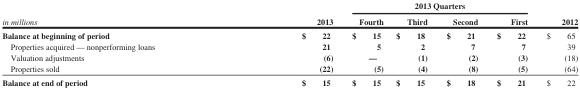table: (1, 0, 577, 86)
table column: (1, 0, 227, 86), (227, 0, 341, 86), (436, 0, 486, 86), (486, 0, 536, 86), (341, 0, 389, 86), (389, 0, 436, 86), (536, 0, 577, 86)
table column header: (1, 0, 577, 28)
table row: (1, 13, 577, 28), (1, 0, 577, 13), (1, 62, 577, 75), (1, 28, 577, 40), (1, 40, 577, 51), (1, 51, 577, 62), (1, 75, 577, 86)
table spanning cell: (1, 0, 227, 28), (227, 0, 341, 28), (341, 0, 536, 13), (536, 0, 577, 28)
